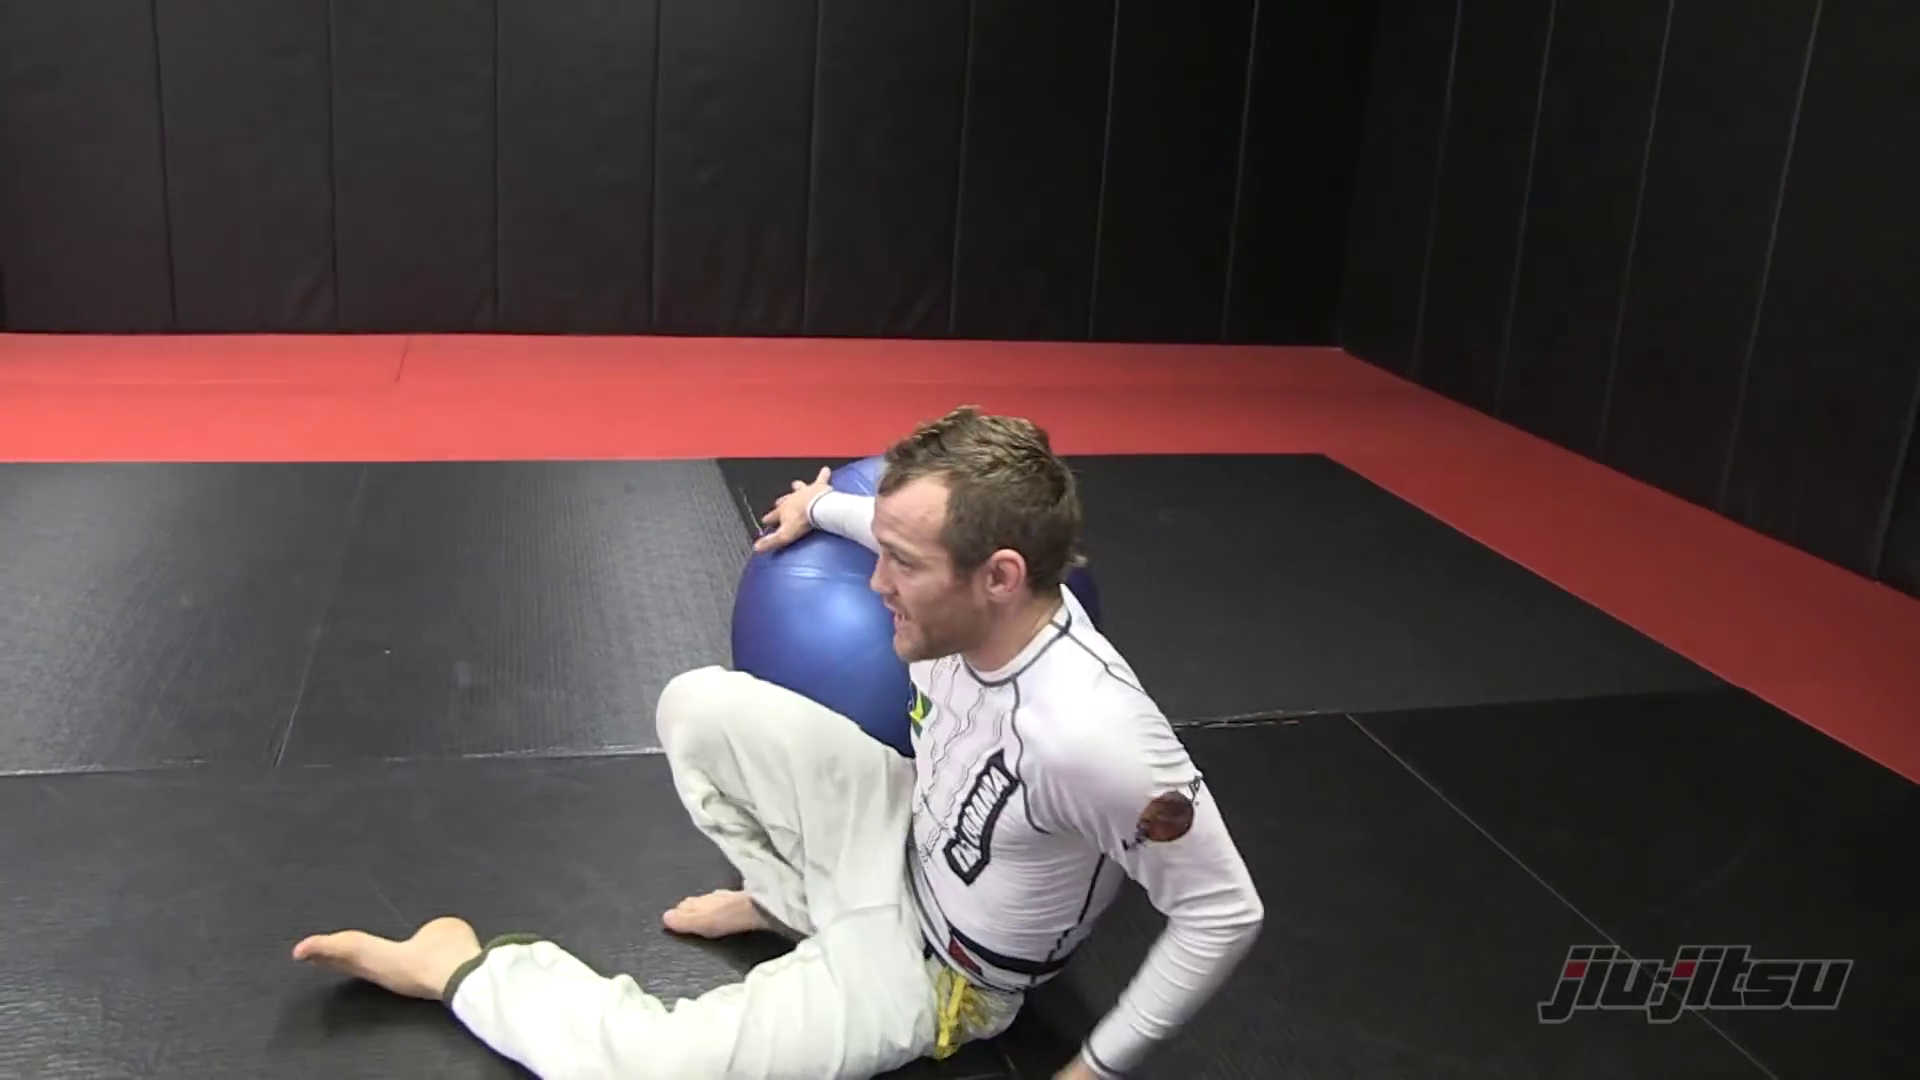yogaball: (724, 448, 1114, 775)
